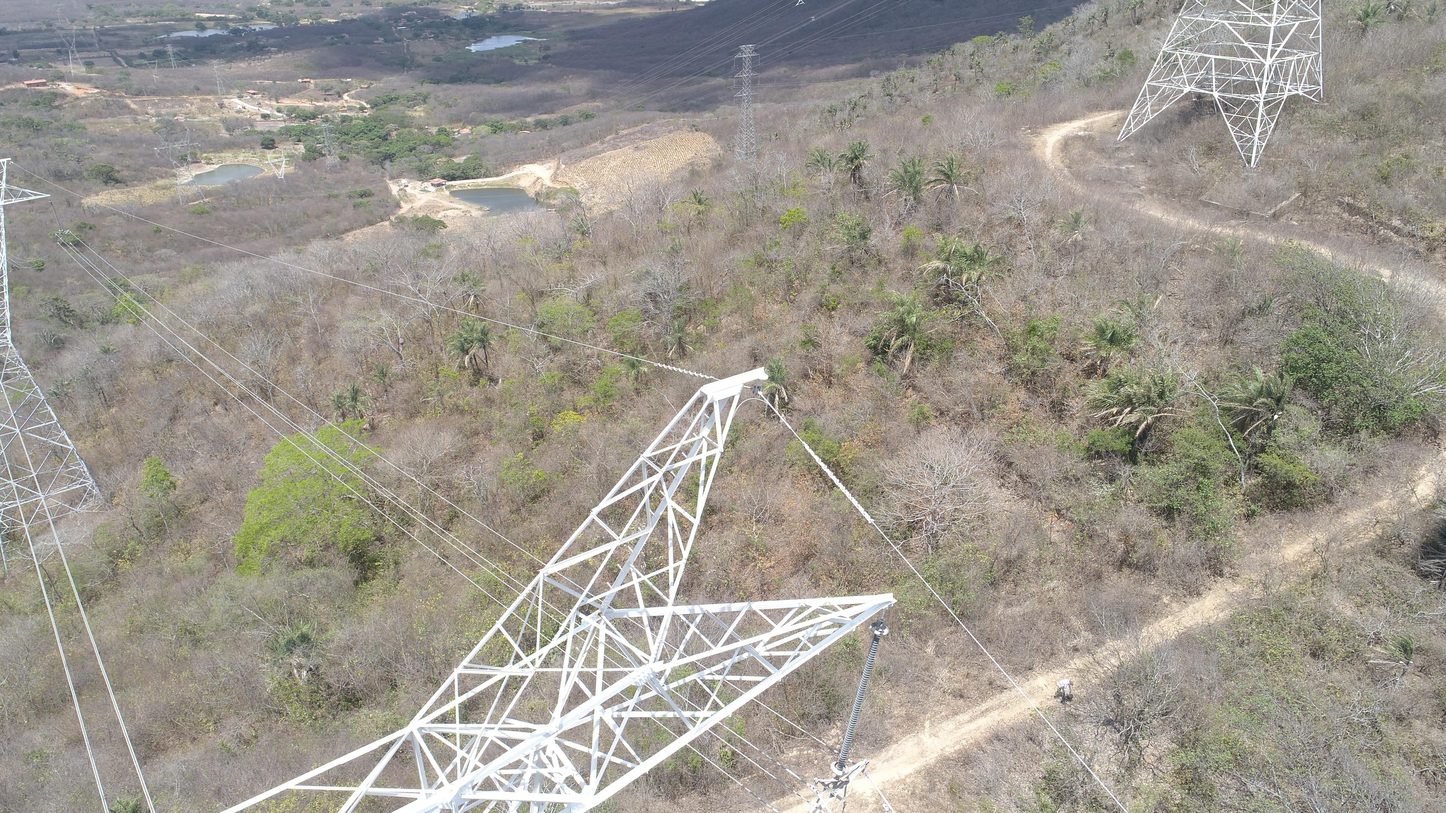power_tower: (218, 367, 896, 813), (0, 151, 122, 581), (1113, 4, 1324, 173), (150, 124, 215, 211), (731, 36, 763, 189), (205, 50, 240, 103), (61, 15, 90, 78), (254, 149, 296, 192), (312, 121, 341, 171), (165, 36, 182, 74), (142, 58, 162, 84), (50, 2, 64, 23)
